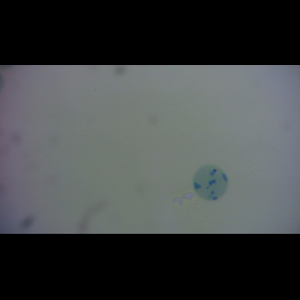aggregate reticulocyte: (192, 165, 230, 202)
